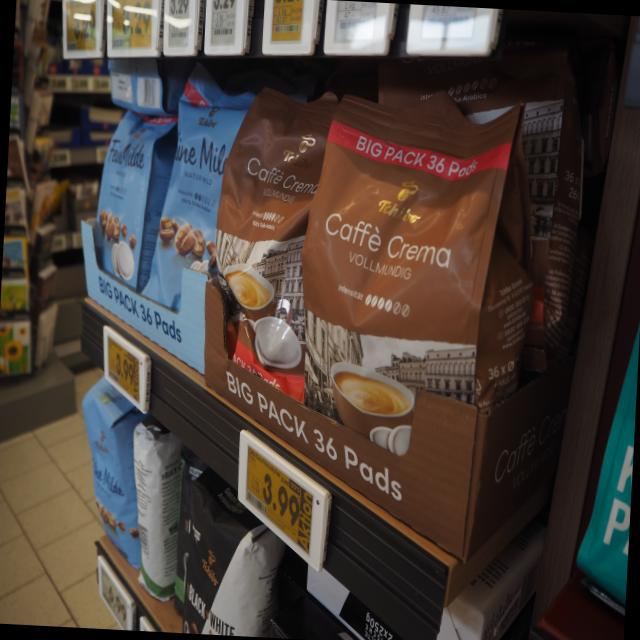BW Bohne: (179, 473, 271, 637)
CC Vollmundig: (274, 82, 547, 554), (203, 85, 345, 441)
FM 36 Pads: (87, 107, 179, 330)
FM Bohne: (131, 98, 250, 358), (76, 356, 146, 575)
